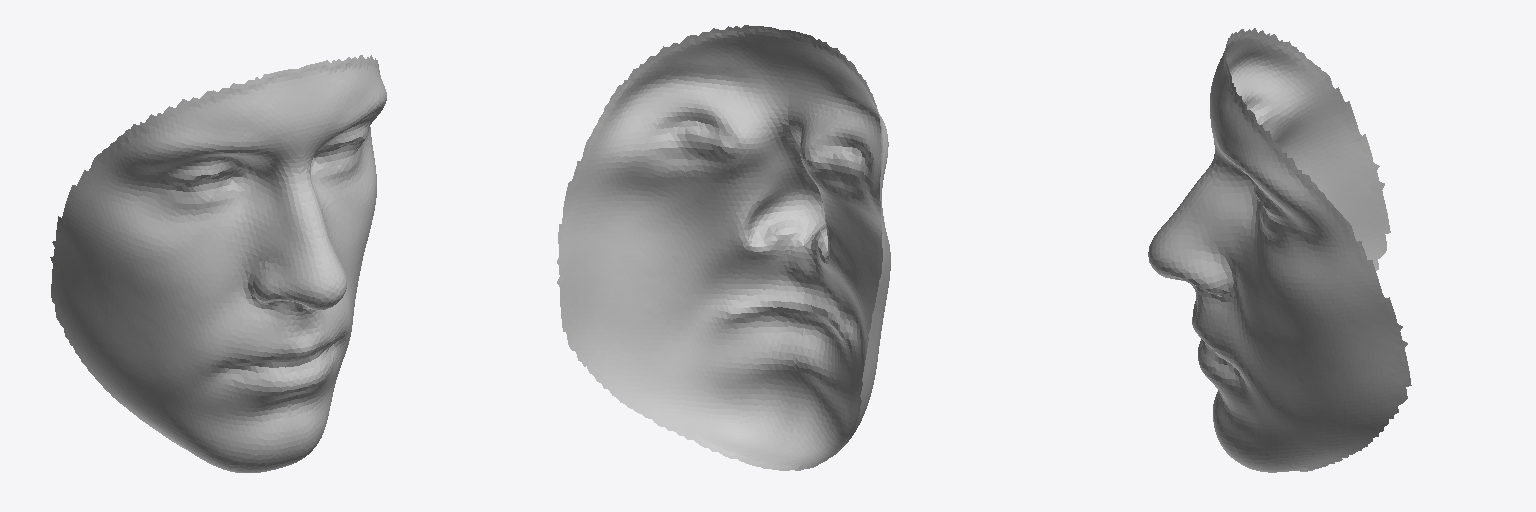
The model's file is SIMPOP_14.obj.
The picture shows the model from 3 angles: view 1: azimuth 30°, elevation 25°; view 2: azimuth 150°, elevation 25°; view 3: azimuth 270°, elevation 25°; orthographic projection.
Visible parts, largest first — view 1: SIMPOP_14; view 2: SIMPOP_14; view 3: SIMPOP_14.
Boxes of the visible parts, x1,y1,x2,y2 form: SIMPOP_14: [50, 55, 386, 472]; SIMPOP_14: [557, 25, 890, 470]; SIMPOP_14: [1148, 28, 1411, 472].
Bounding box in the file's own units: 140 × 178 × 104.